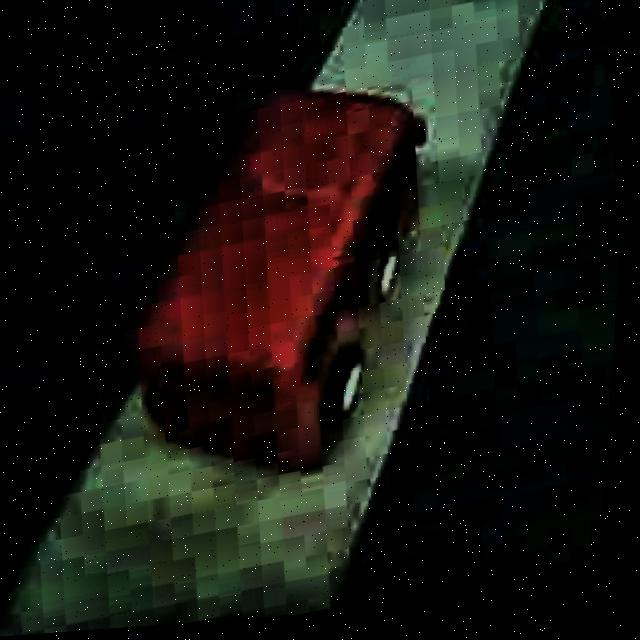bus: (92, 55, 474, 513)
